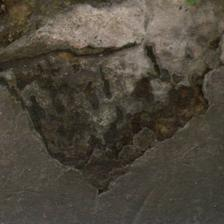Crack: (74, 85, 206, 179), (56, 0, 168, 94), (0, 26, 153, 82)
